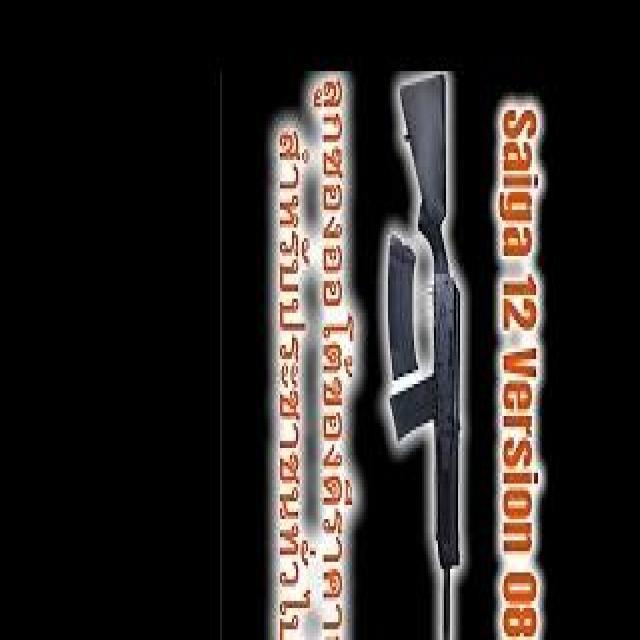weapon: (387, 74, 464, 640)
